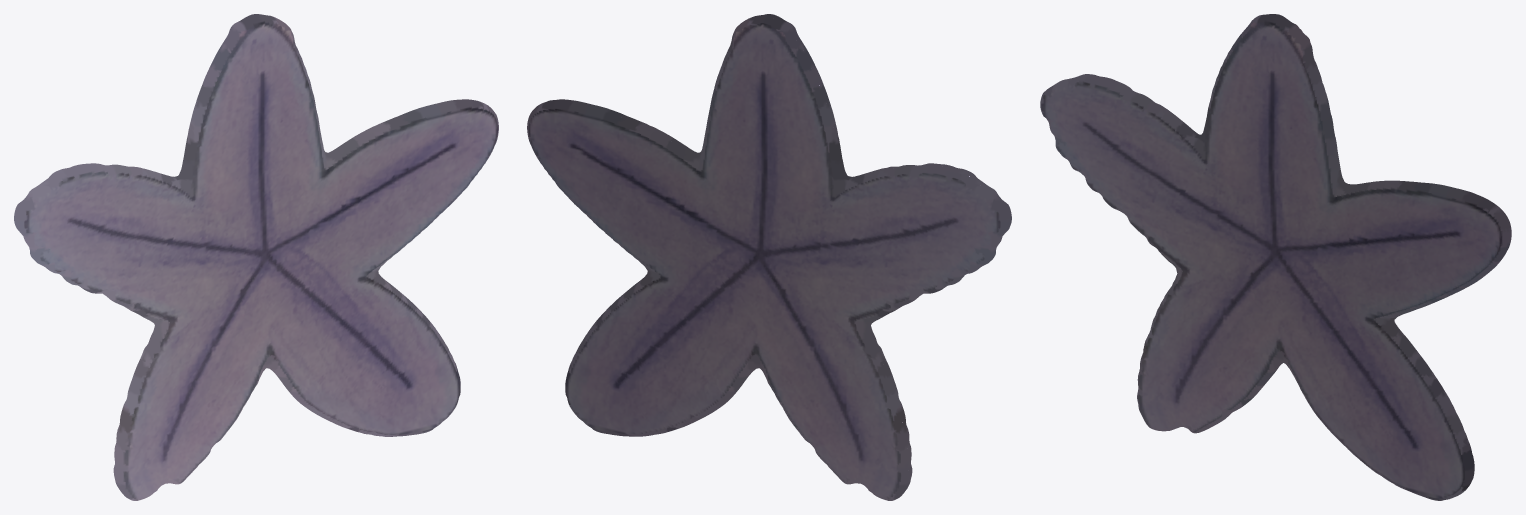
File: starfish.glb
The picture shows the model from 3 angles, left to right: view 1: azimuth 30°, elevation 25°; view 2: azimuth 150°, elevation 25°; view 3: azimuth 330°, elevation 25°; orthographic projection. The views are drawn at different scales.
Size of the model in its own units: 0.286 by 0.2593 by 0.00997.
